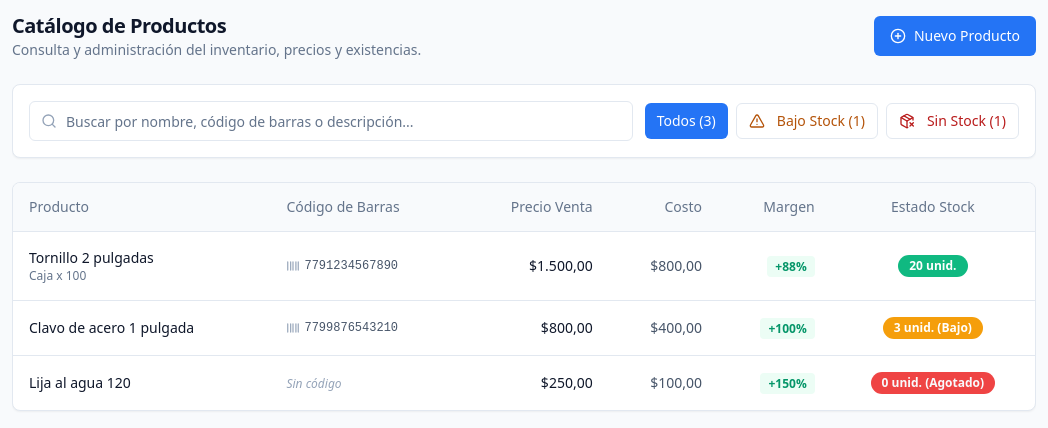
Test: CatalogView Component › should filter products by "Sin Stock"
The image size is (1048, 428).
Click the button "Sin Stock (1)".
click(952, 121)  # box [886,103,1019,139]
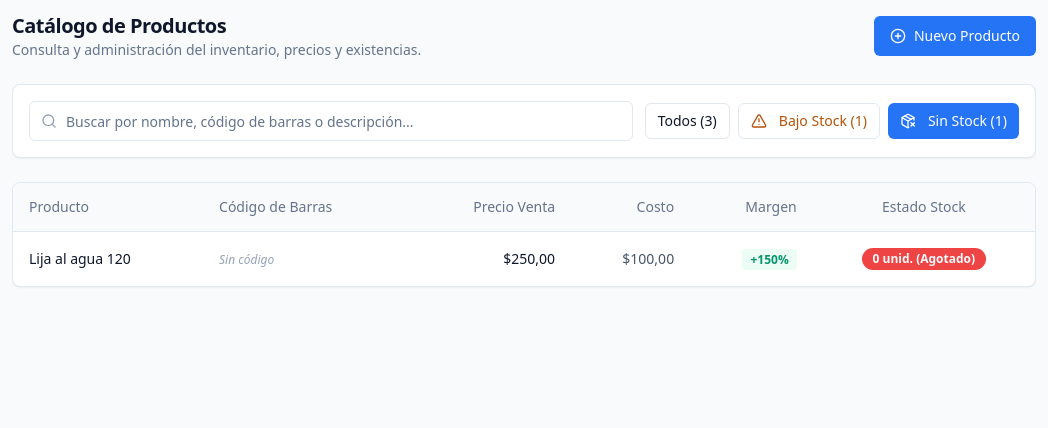
Expected: the text "Lija al agua 120" is shown, [29,248,131,268]
Now the text "Tornillo 2 pulgadas" is gone
Now the text "Clavo de acero 1 pulgada" is gone
